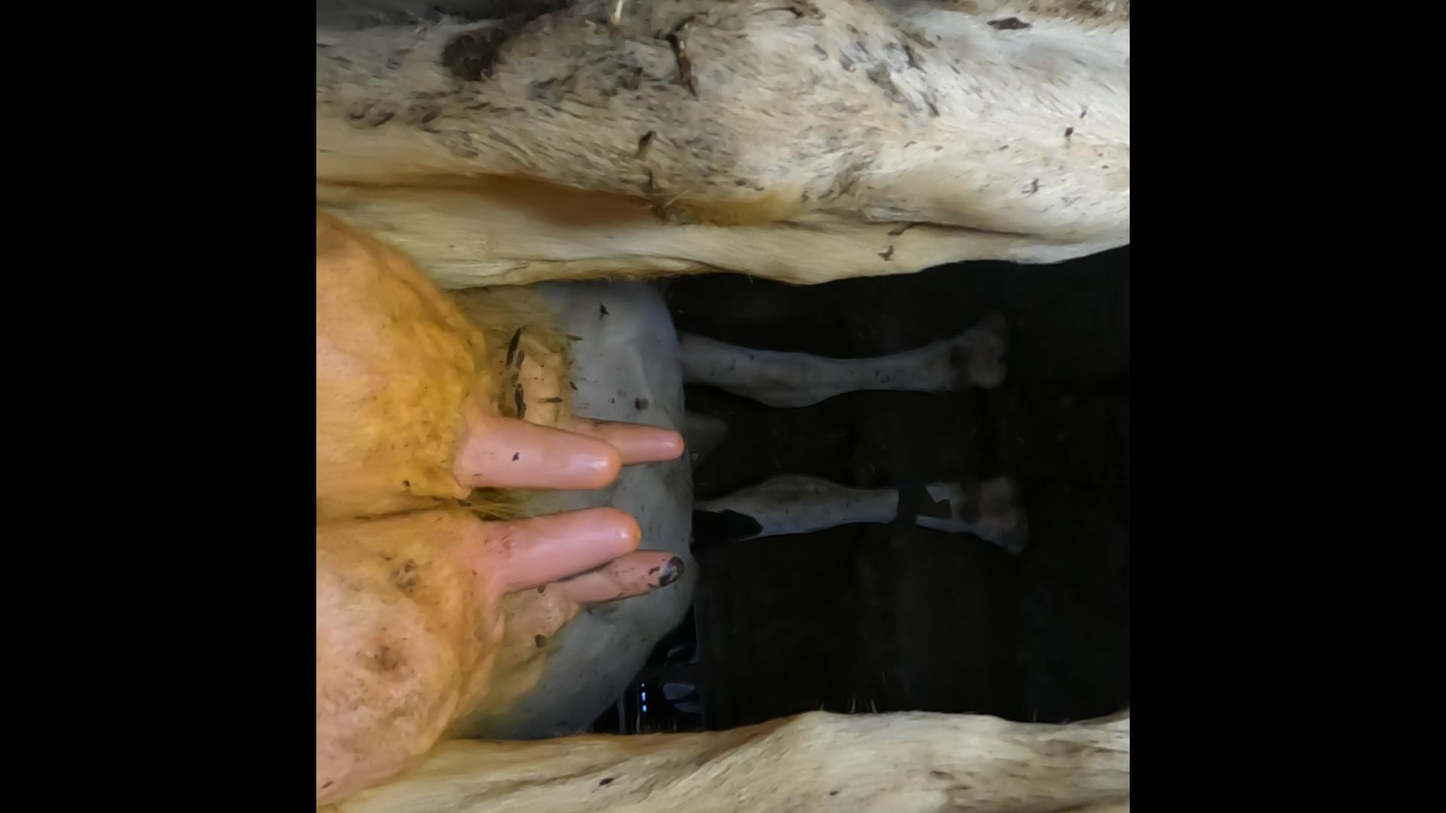Zitze: (470, 502, 656, 579), (524, 533, 699, 612), (454, 411, 631, 489), (570, 408, 695, 467)
